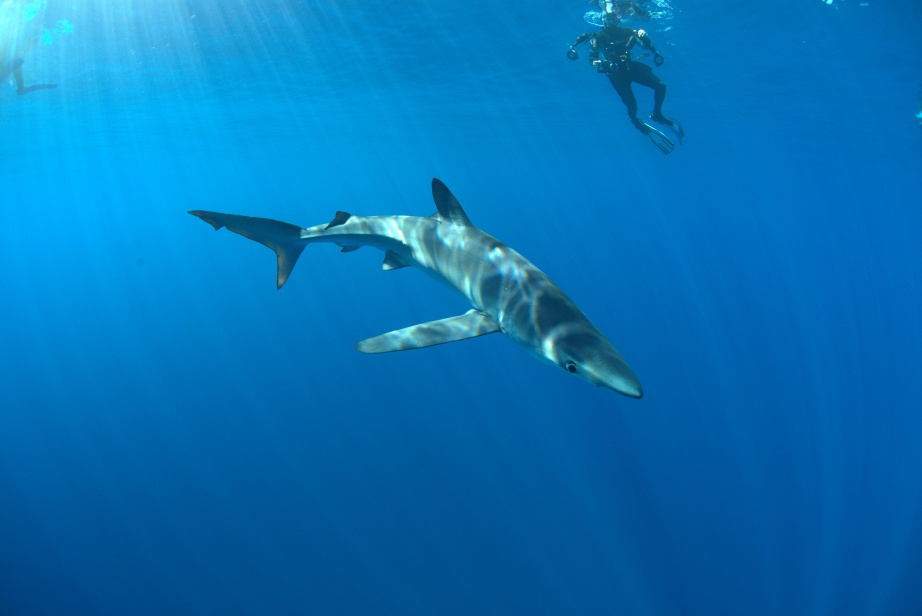Azul: (176, 170, 666, 410)
